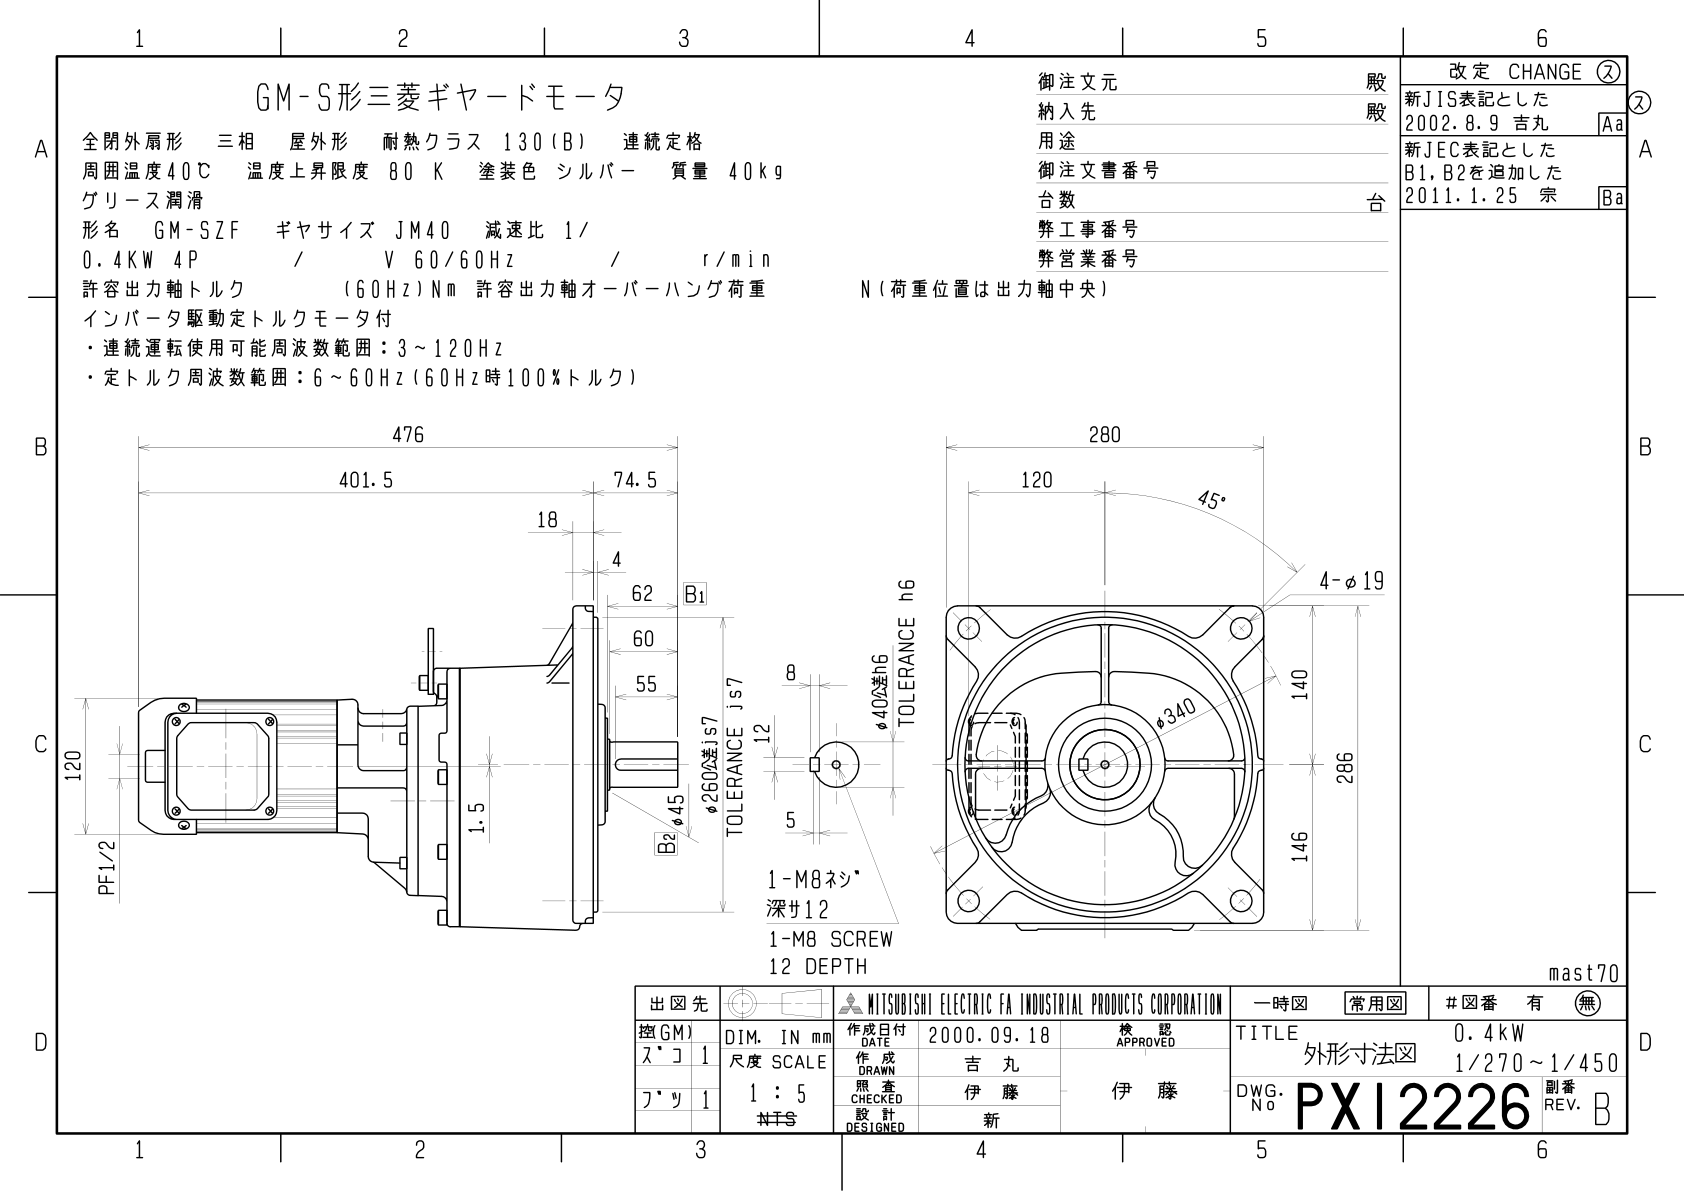GM_S_インバタ屋外＿三相_フランジ: (58, 409, 1392, 978)
